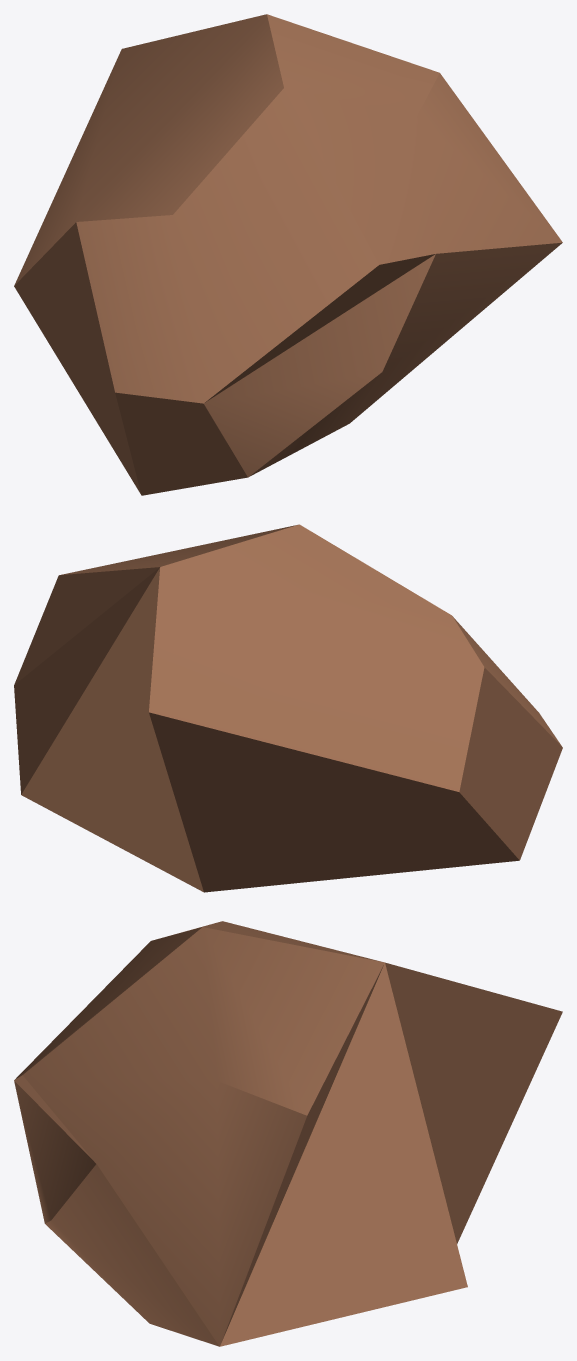
File: rock_small_5.fbx
The picture shows the model from 3 angles, top to bottom: view 1: azimuth 30°, elevation 25°; view 2: azimuth 150°, elevation 25°; view 3: azimuth 270°, elevation 25°; orthographic projection. The views are drawn at different scales.
Parts seen in each view (by area): view 1: Retopo_Rock generator addon.026; view 2: Retopo_Rock generator addon.026; view 3: Retopo_Rock generator addon.026.
Part boxes in pixels (x1,y1,x2,y2): Retopo_Rock generator addon.026: (14,14,562,495); Retopo_Rock generator addon.026: (14,524,562,892); Retopo_Rock generator addon.026: (14,921,562,1346).
Bounding box in the file's own units: 11.45 × 7.17 × 9.47.
